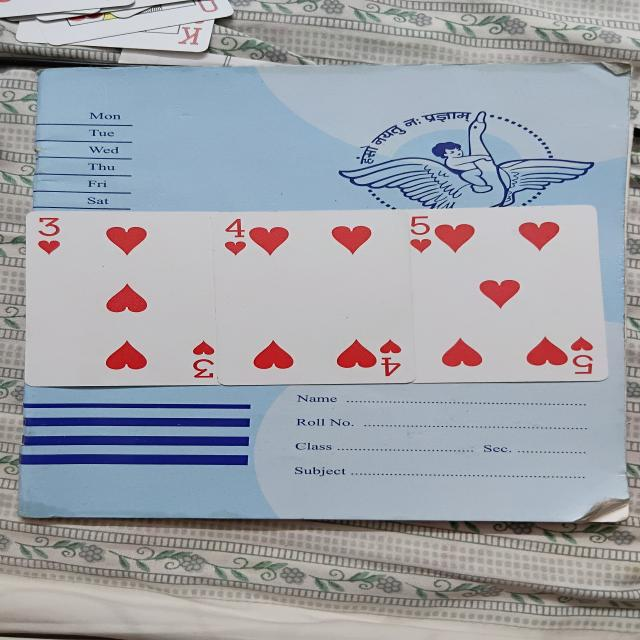3H: (28, 208, 224, 388)
5H: (400, 210, 609, 380)
